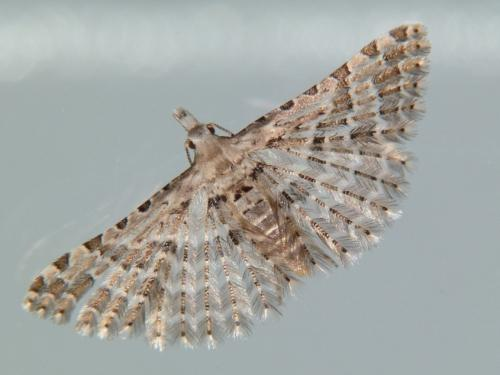Alucitidae: (17, 18, 432, 348)
moth: (21, 22, 436, 352)
